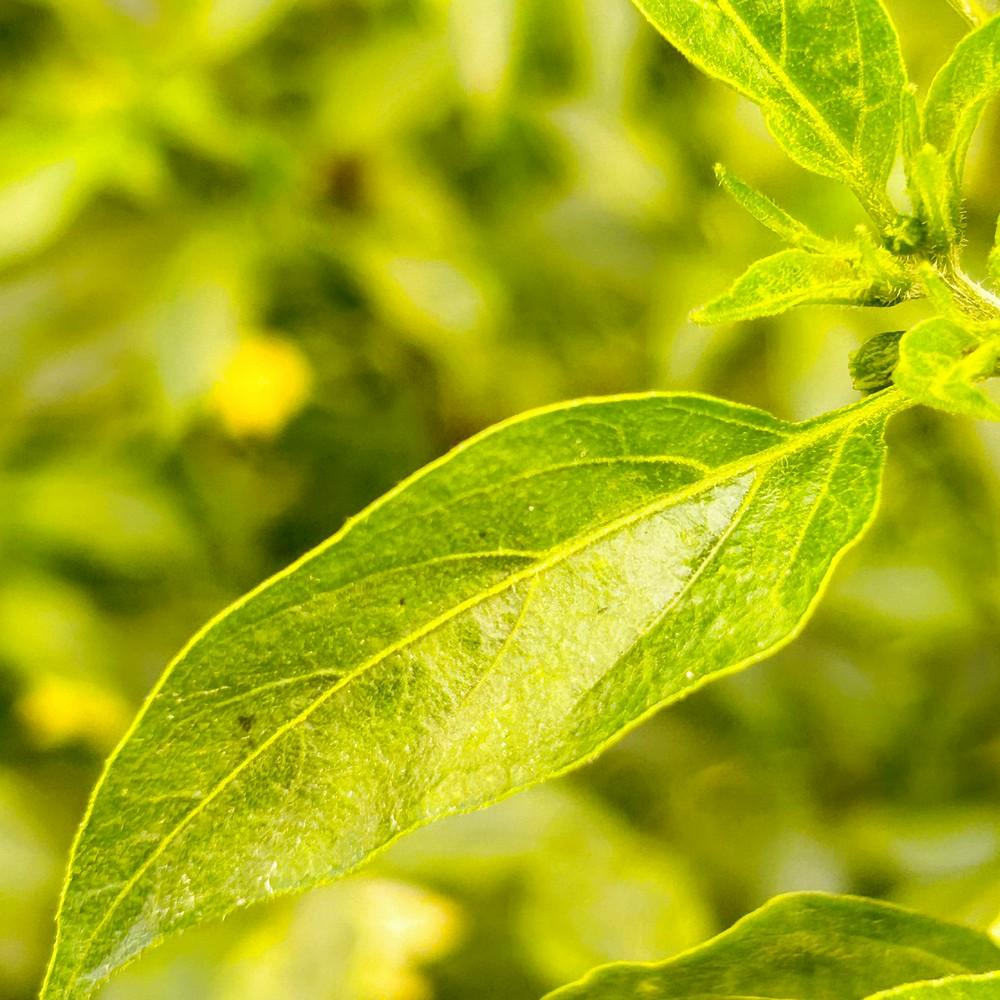Daun Cabai Sehat: (34, 386, 898, 996)
